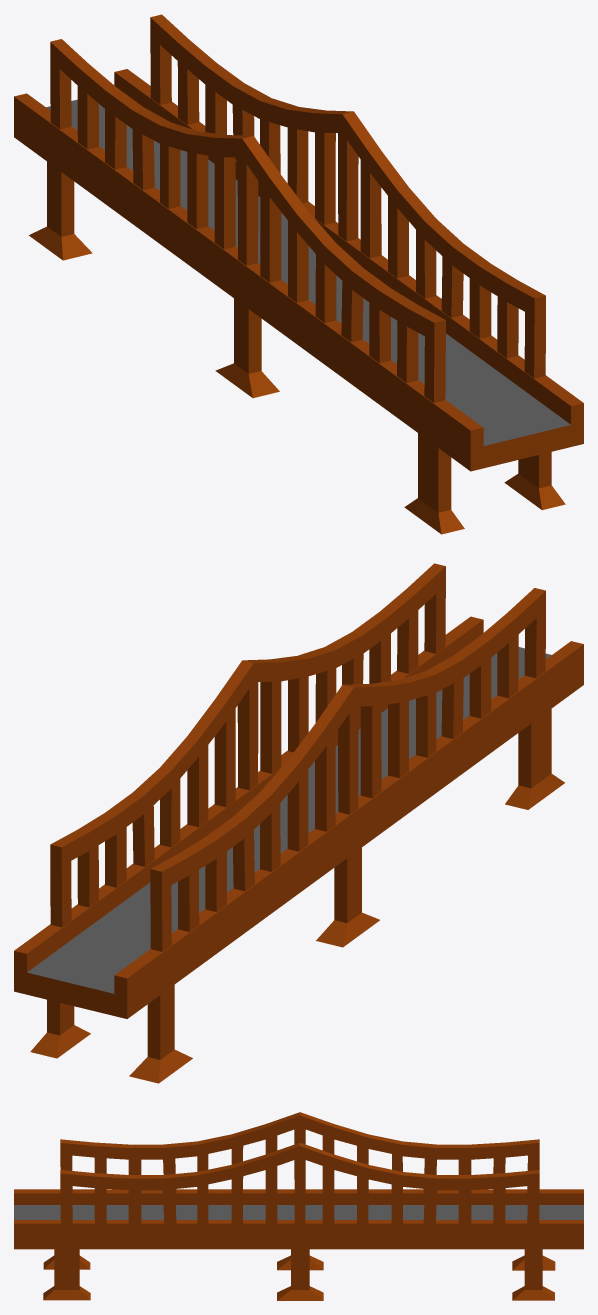
The model's file is bridge.fbx.
3 renders of one model, top to bottom at view 1: azimuth 30°, elevation 25°; view 2: azimuth 150°, elevation 25°; view 3: azimuth 270°, elevation 25°, orthographic. The views are drawn at different scales.
Parts seen in each view (by area): view 1: pCube9; view 2: pCube9; view 3: pCube9.
Boxes of the visible parts, left/top/right/bottom form: pCube9: left=14, top=14, right=583, bottom=534; pCube9: left=14, top=563, right=583, bottom=1083; pCube9: left=14, top=1112, right=583, bottom=1300.
Size of the model in its own units: 11.8 by 21.33 by 72.34.
